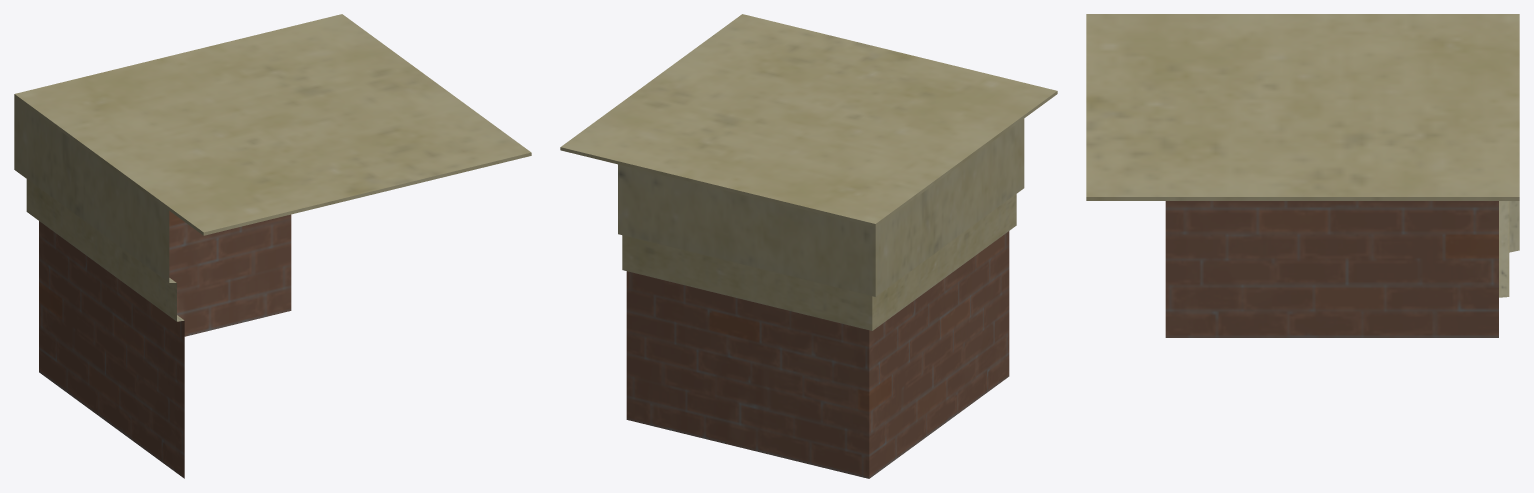
Rendered from brick_cornercolumn_cap.glb.
The picture shows the model from 3 angles, left to right: view 1: azimuth 30°, elevation 25°; view 2: azimuth 150°, elevation 25°; view 3: azimuth 270°, elevation 25°; orthographic projection. The views are drawn at different scales.
Visible parts, largest first — view 1: Brick_CornerColumn_Cap; view 2: Brick_CornerColumn_Cap; view 3: Brick_CornerColumn_Cap.
Boxes of the visible parts, x1,y1,x2,y2 form: Brick_CornerColumn_Cap: (14,14,531,478); Brick_CornerColumn_Cap: (560,14,1057,478); Brick_CornerColumn_Cap: (1086,14,1519,337).
Size of the model in its own units: 1.26 by 1.01 by 1.26.
2 materials, 2 textured.
